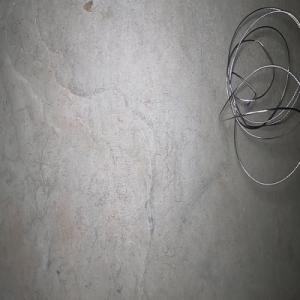Wire: (218, 6, 300, 185)
